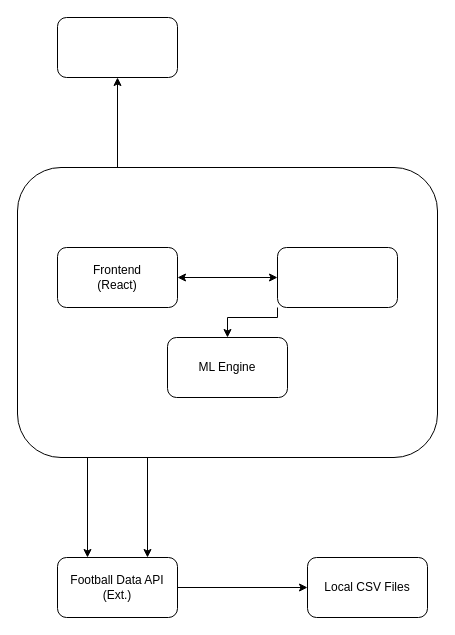
The diagram is 455 pixels wide and 635 high, and some of its shapes have lost their labels. Here are the shapes that lost their labels. From the top down, the centre of each, then its label:
point 117,47: End User
point 337,277: Backend (Node.js, Flask)
